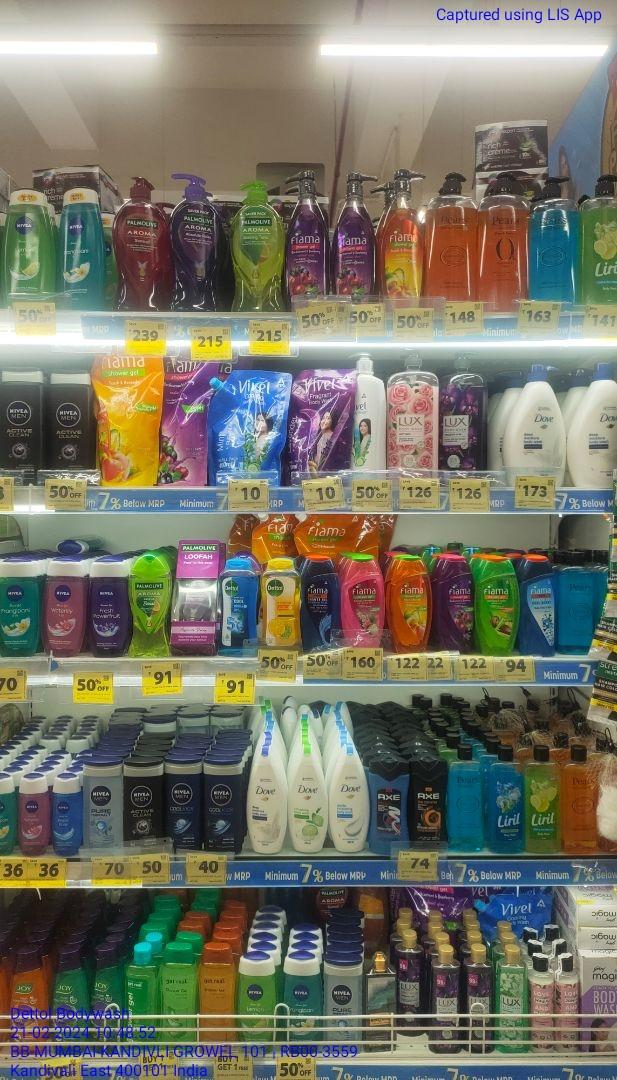Dettol_Bodywash_Cool: (219, 555, 258, 658)
Dettol_Bodywash_Refresh: (259, 556, 301, 649)
Dove_Deep_Moisture_Body_Wash_250ML: (246, 747, 288, 855)
Dove_Gentle_Exfoliating_Body_Wash_250ML: (330, 743, 369, 854)
Dove_Refreshing_Body_Wash_250ML: (288, 743, 329, 853)
Fiama_Shower_Gel_Lemongrass_and_Jojoba_250ML: (476, 555, 520, 656)
Fiama_Shower_Gel_Patchouli_and_Macadamia_250ML: (341, 553, 385, 647)
Fiama_Shower_Gel_Peach_and_Avocado_250ML: (386, 554, 432, 652)
Get_Real_Shower_Gel_Moisturising_Glycerin_300ML: (197, 942, 236, 1041)
Liril_Cooling_Mint_Body_Wash_250ML: (488, 746, 523, 852)
Liril_Lime_and_Tea_Tree_Oil_Body_Wash_250ML: (523, 744, 559, 854)
Lux_Black_Orchid_Scent_and_Juniper_Oil_Body_Wash_245ML: (426, 943, 463, 1052), (395, 926, 427, 1036), (464, 944, 493, 1053)
Lux_Body_Wash_Skin_Detox_Freesia_Scent_and_Alove_Vera_245ML: (494, 944, 528, 1052)
Nivea_Shower_Gel_Frangipani_and_Oil_250ML: (57, 185, 104, 311), (0, 555, 40, 657), (281, 950, 322, 1040)
Nivea_Shower_Gel_Fresh_Powerfruit_250ML: (87, 558, 128, 656)
Nivea_Shower_Gel_Lemon_and_Oil_250ML: (0, 187, 55, 301), (236, 951, 275, 1041)
Nivea_Shower_Gel_Waterlily_and_Oil_250ML: (42, 558, 86, 655)
Palmolive_Aroma_Morning_Tonic_Shower_Gel_250ML: (129, 553, 169, 660)
Pears_Pure_Glycerin_and_Mint_Extracts_Body_Wash_250ML: (448, 746, 484, 852)
